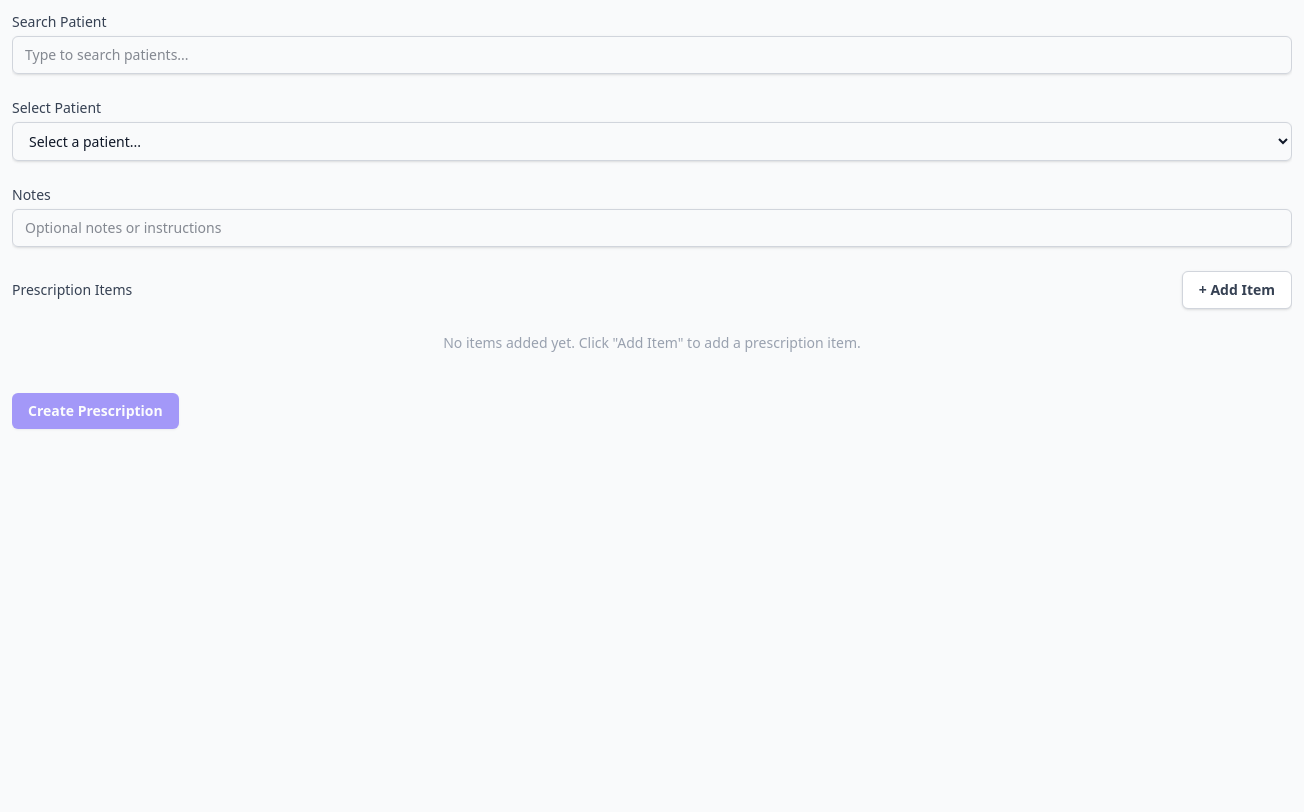
Test: PrescriptionForm › removes an item when clicking Remove
Click the button "+ Add Item": (1237, 290) [1182, 271, 1292, 309]
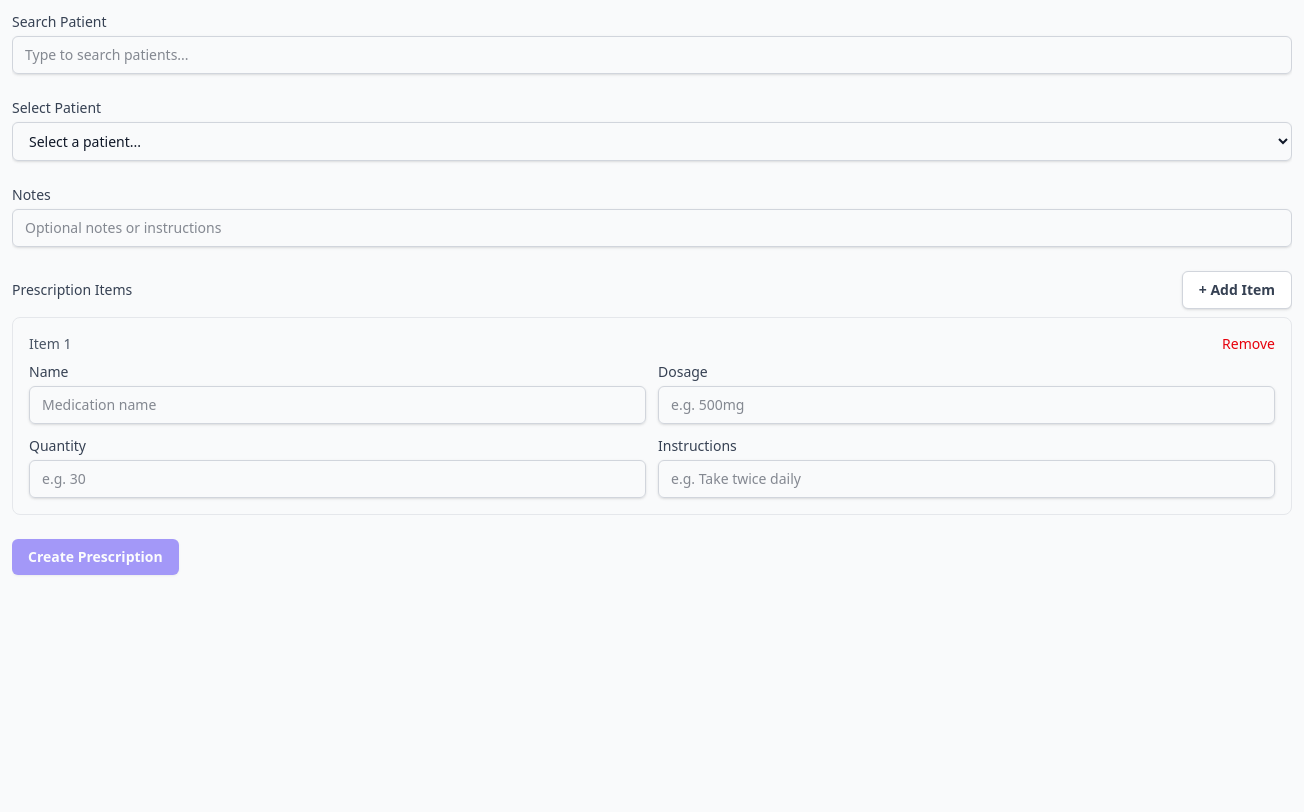
Now the text "Item 1" is shown, box [29, 334, 71, 354]
Now the button "Remove" is shown
Click the button "Remove": (1249, 344) [1222, 334, 1275, 354]
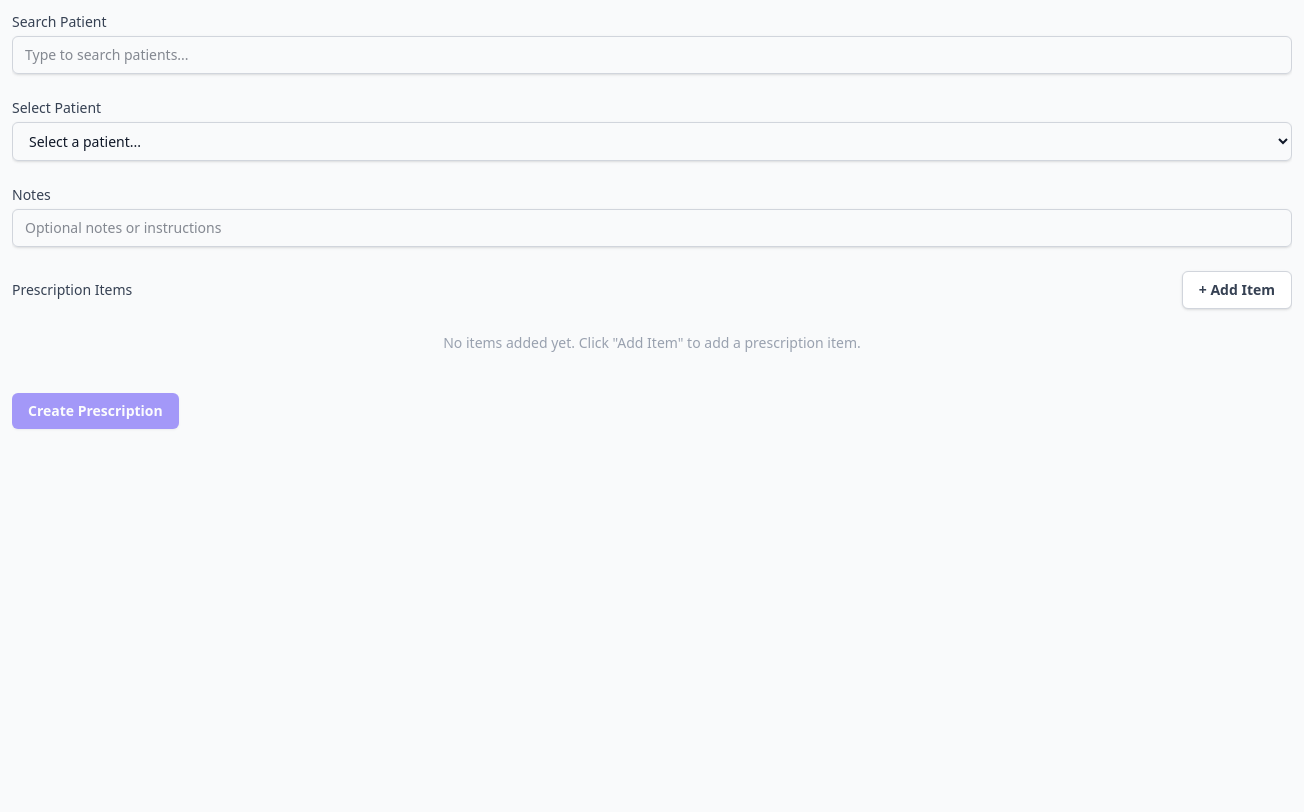
Now the text "No items added yet" is shown, box [443, 333, 861, 352]
